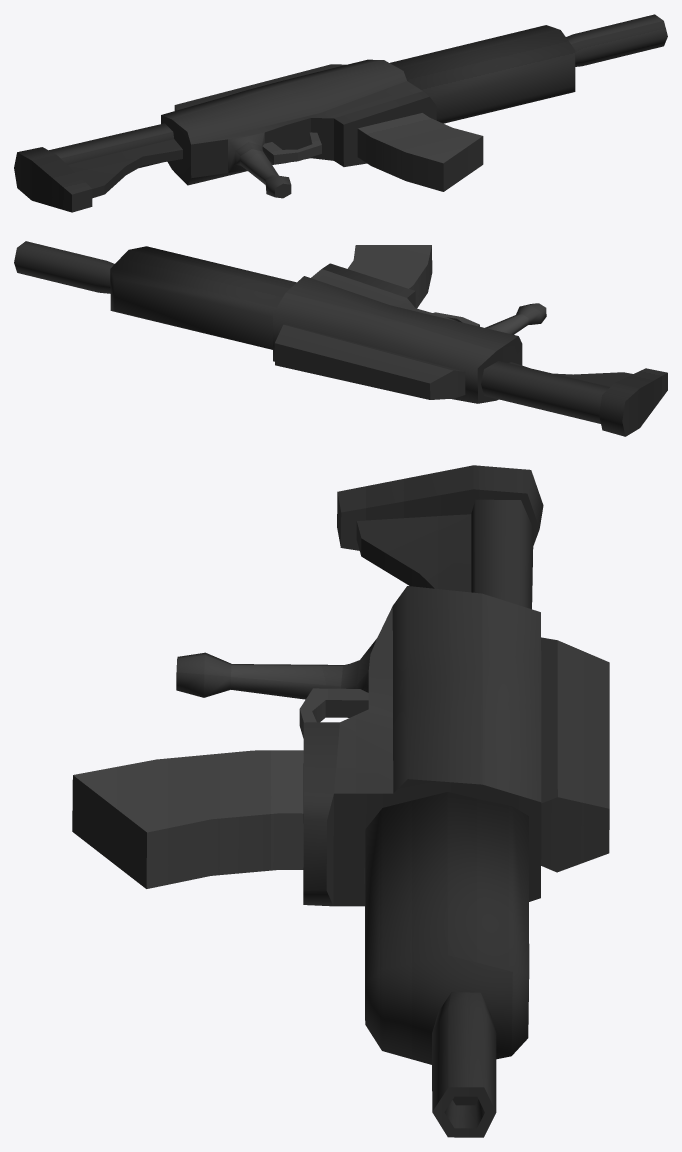
File: loot_rifle.glb
3 renders of one model, top to bottom at view 1: azimuth 30°, elevation 25°; view 2: azimuth 150°, elevation 25°; view 3: azimuth 270°, elevation 25°, orthographic. The views are drawn at different scales.
Visible parts, largest first — view 1: loot_rifle; view 2: loot_rifle; view 3: loot_rifle.
Part boxes in pixels (x1,y1,x2,y2): loot_rifle: [14, 14, 667, 212]; loot_rifle: [14, 241, 667, 436]; loot_rifle: [72, 465, 609, 1137].
Size of the model in its own units: 0.7609 by 0.0835 by 0.2855.
Materials: 1 (1 with a texture image).
